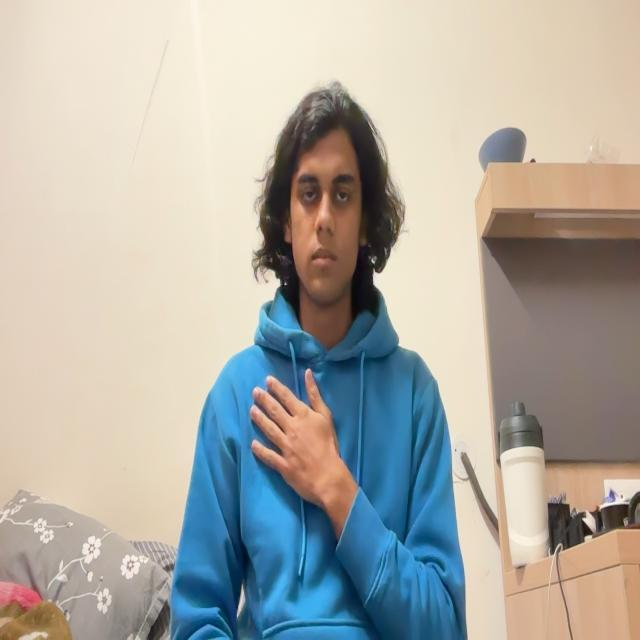Please: (234, 360, 358, 520)
